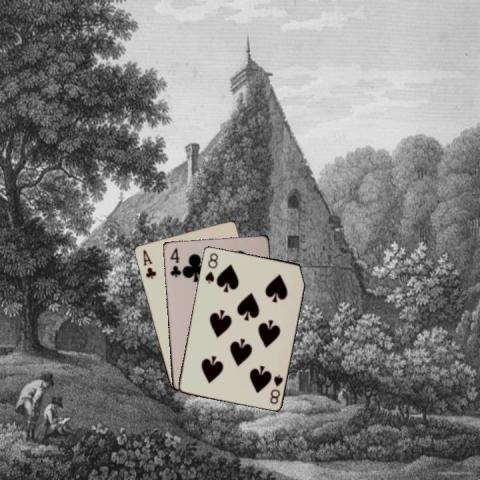4c: (168, 244, 182, 278)
8s: (202, 249, 219, 285), (267, 372, 284, 406)
Ac: (140, 246, 157, 280)
